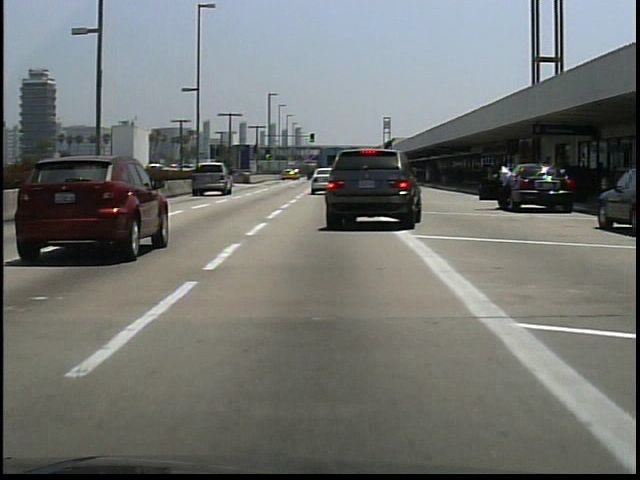person: (494, 156, 514, 214)
